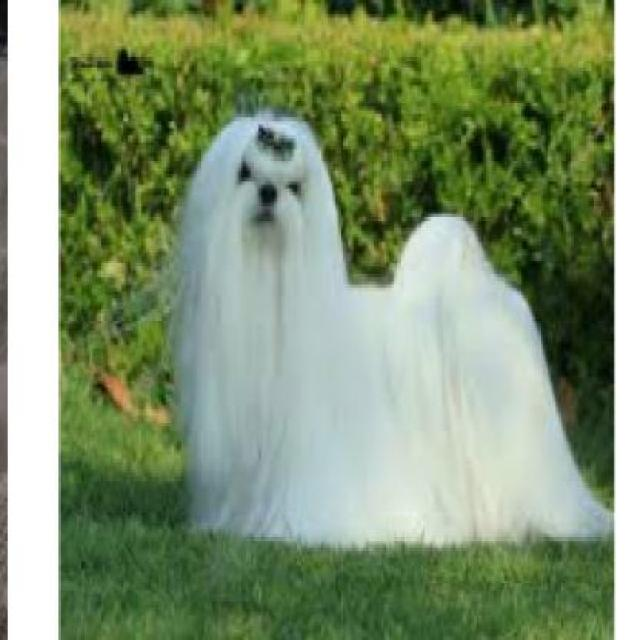Dog: (162, 111, 612, 552)
